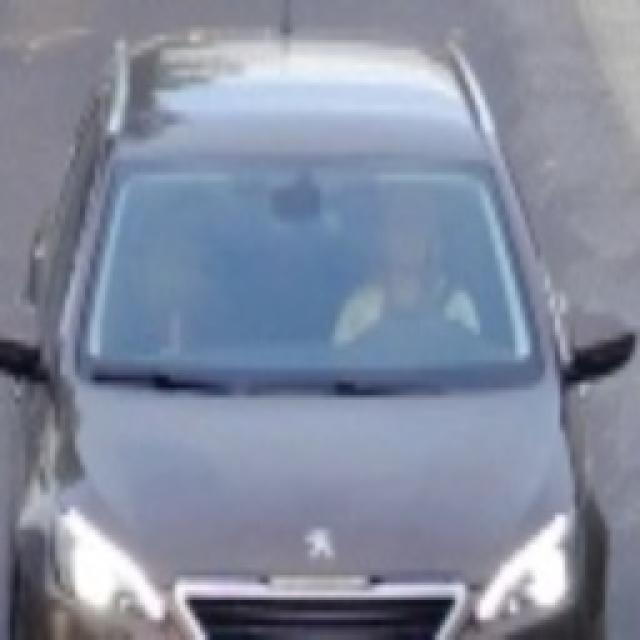windshield: (85, 150, 529, 377)
